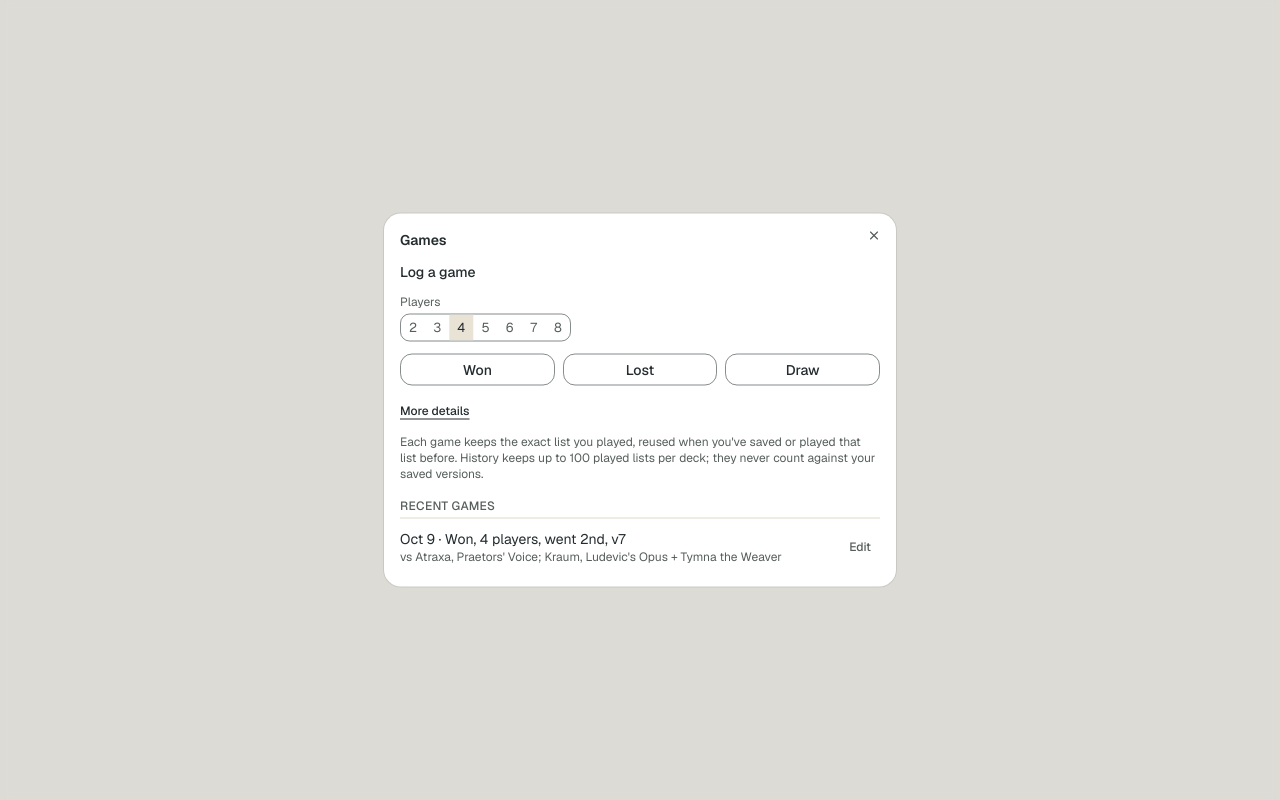
GamesDialog — the recent games, named and editable (Y10) › Save sends only what changed; the list loads again, says so, and focus returns to its Edit
This screenshot has width=1280, height=800.
Expected: the list is shown, [400,522,880,570]
Click the button "Edit" at (860, 546), box [840,534,880,558]
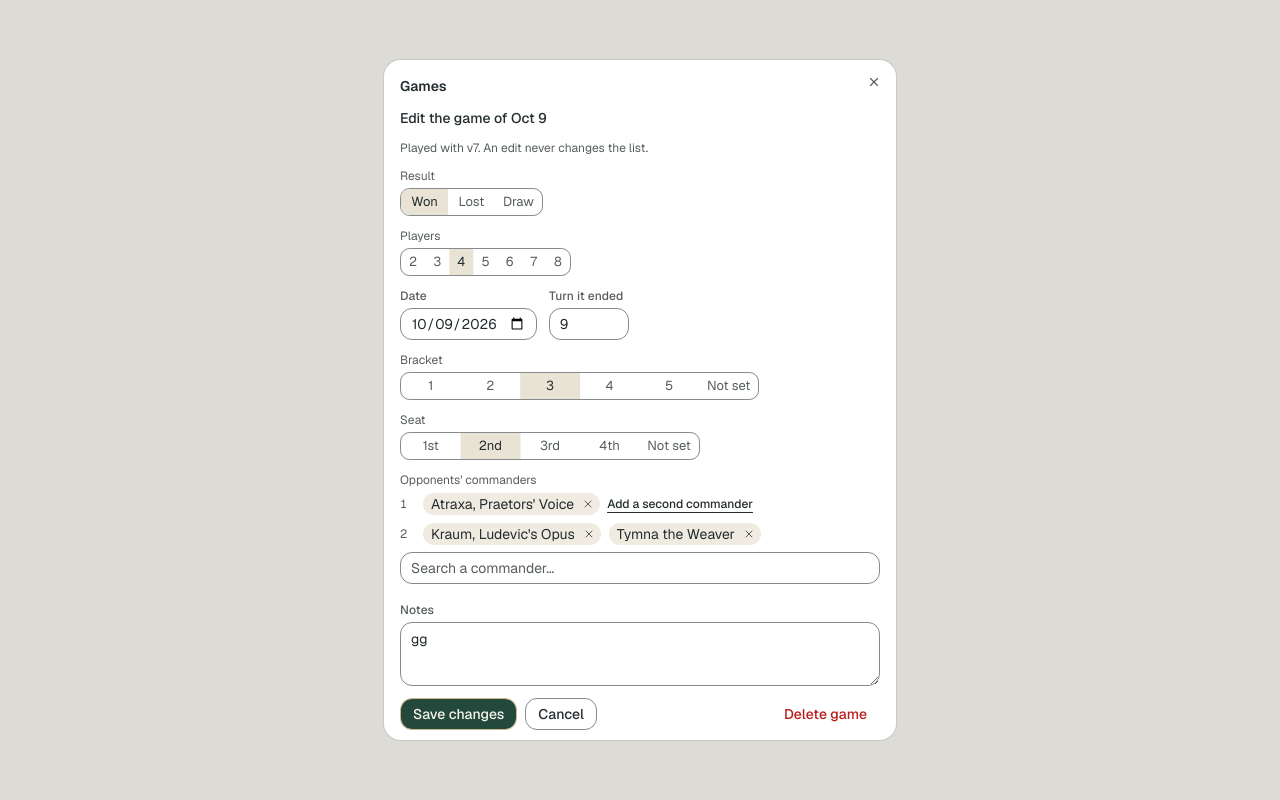
Click the button "Lost" at (471, 202), box [448,189,495,215]
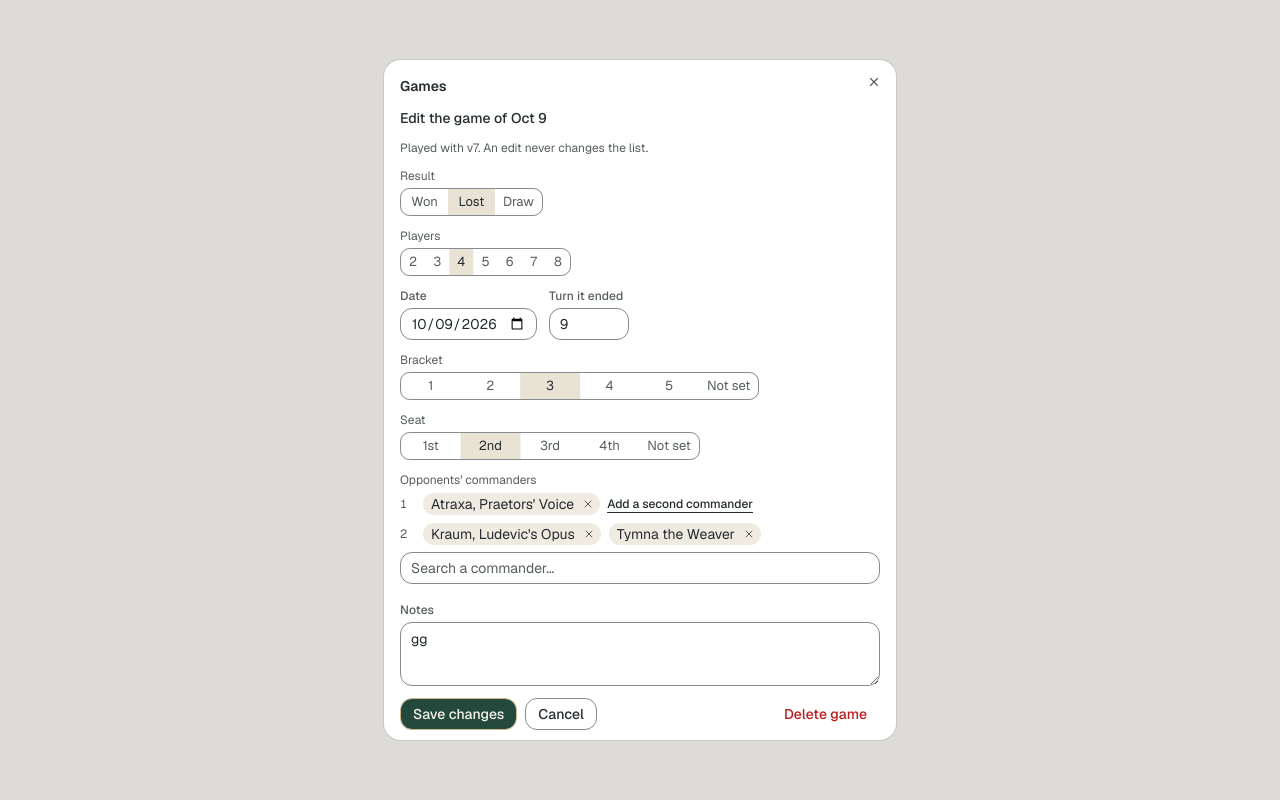
Replace the text in the number field labelled "Turn it ended" with "11" at (589, 324), box [549,308,629,340]
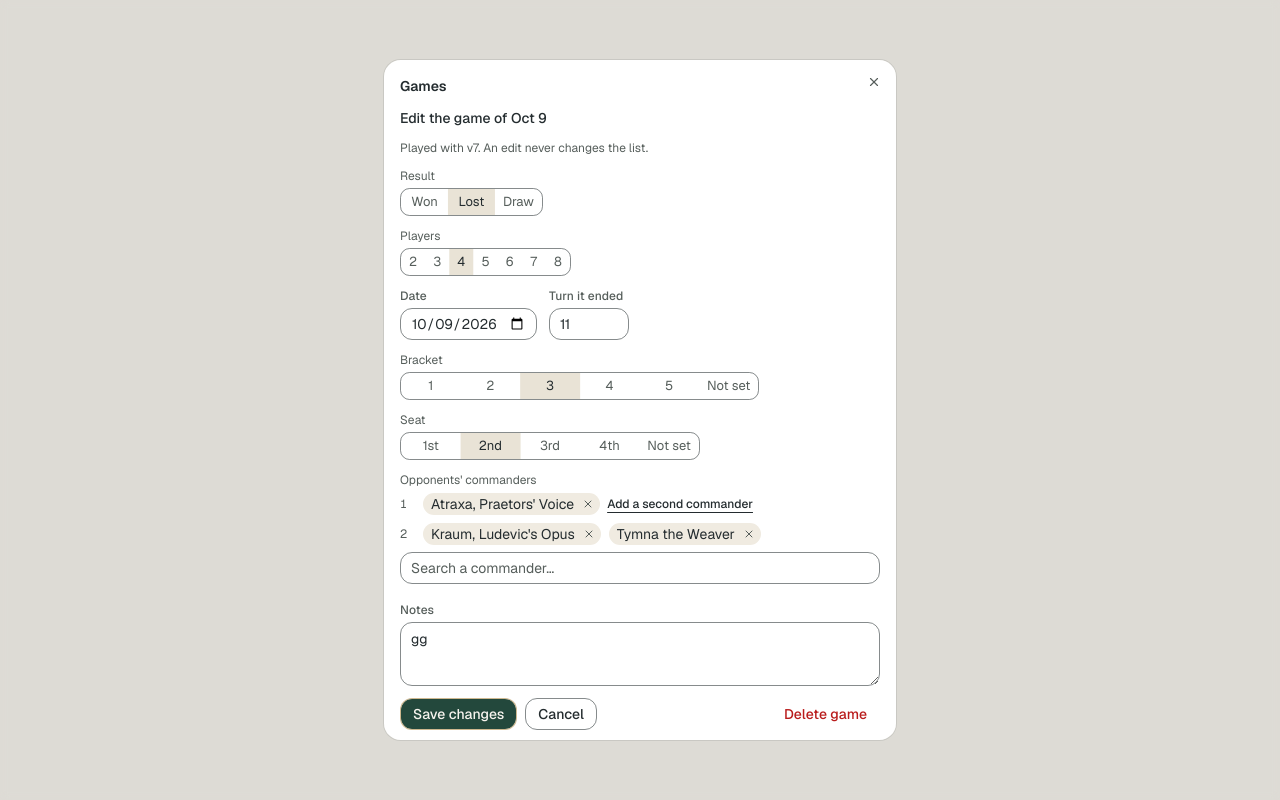
Click the button "Save changes" at (459, 714), box [400,698,517,730]
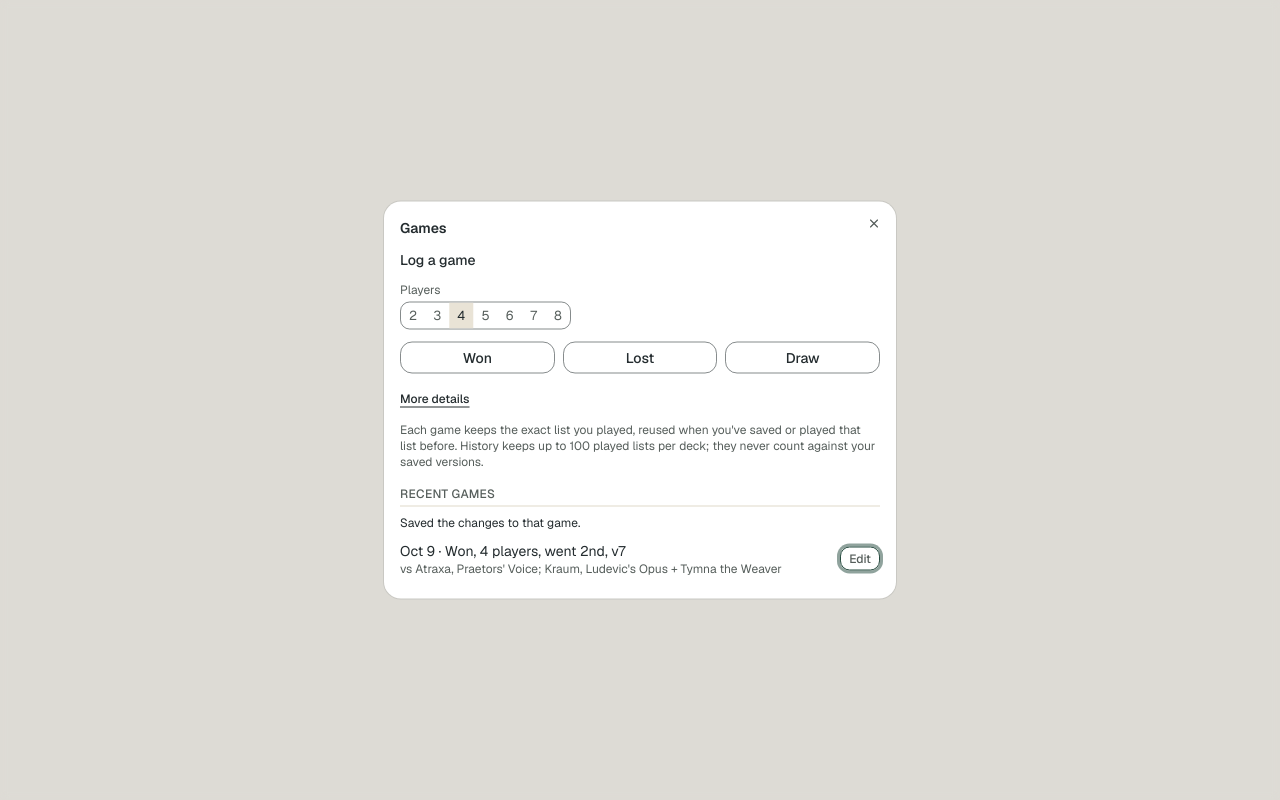
Expected: the dialog "Games" shows "Saved the changes to that game.", [400,514,580,530]
